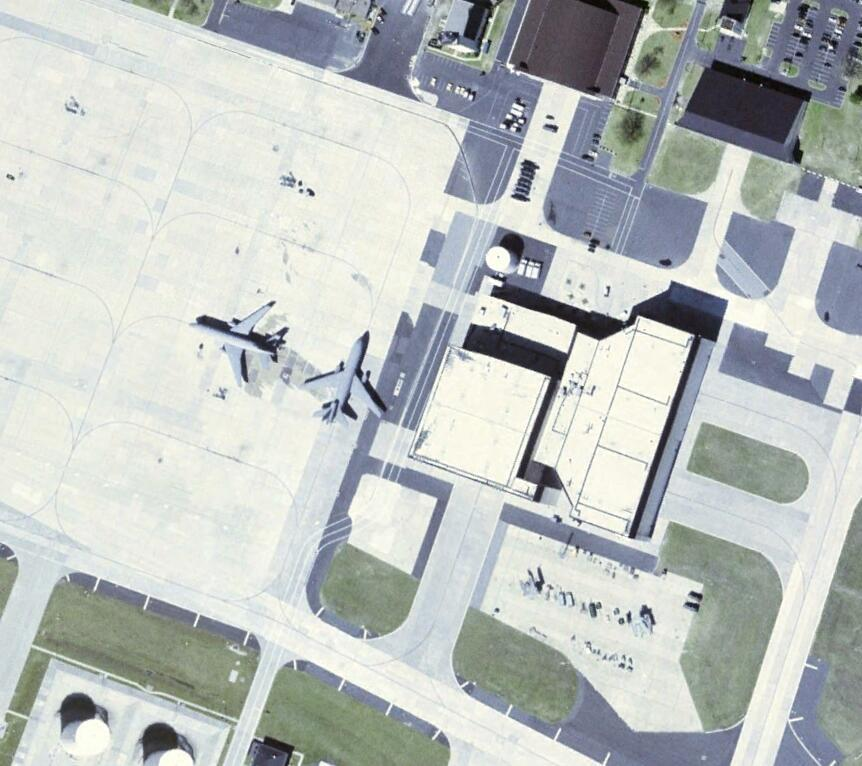A18: (188, 300, 286, 386), (303, 335, 389, 424)
